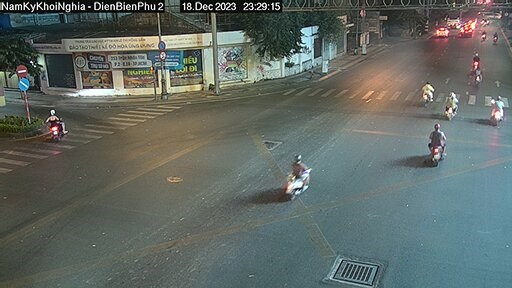car: (430, 23, 456, 41)
motorbike: (280, 150, 321, 196), (422, 123, 449, 162), (40, 112, 69, 143), (421, 80, 438, 107), (445, 92, 461, 114), (493, 98, 503, 121)
